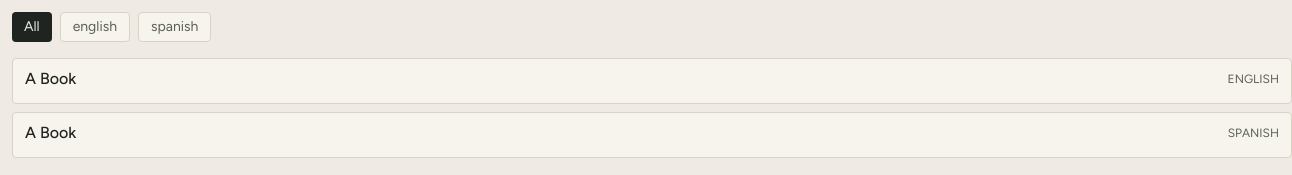
Test: BookshelfList › the selected language filter chip uses bg-ink/text-paper, not a progress color
Click the button "spanish" at (175, 27), box [138,12,211,42]
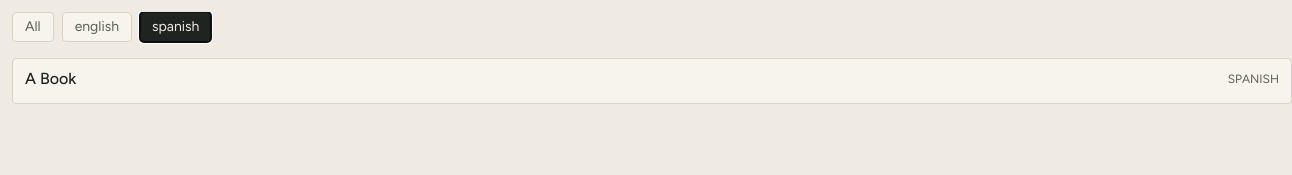
Expected: the button "spanish" has class "bg-ink", [140,12,211,42]
Expected: the button "All" has class "bg-surface", [12,12,54,42]
Expected: the button "All" has class "border-hairline", [12,12,54,42]
